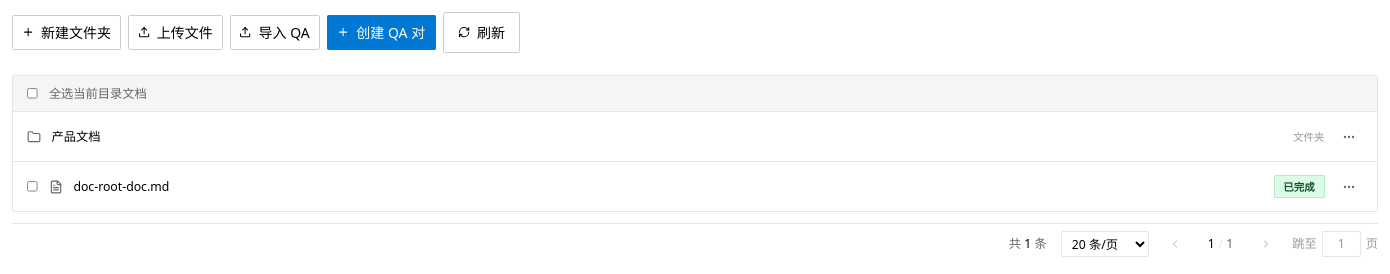
Test: KbDocumentsTab › navigates folders and requests folder-scoped documents
This screenshot has width=1390, height=274.
expect the text "产品文档" is shown: met, box [52, 128, 100, 146]
expect the text "doc-root-doc.md" is shown: met, box [73, 178, 169, 196]
What coordinates should you click on to do the following:
click the button "产品文档"
I would click on:
 (76, 136)
Its box is [27, 128, 1282, 146].
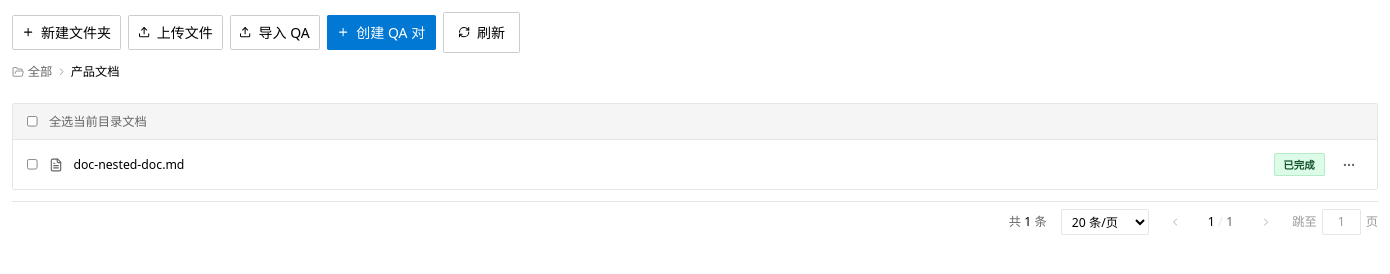
expect the text "doc-nested-doc.md" is shown: met, box [73, 156, 184, 174]
expect the button "doc-root-doc.md" is gone: met
expect the button "全部" is shown: met, box [28, 63, 52, 80]
